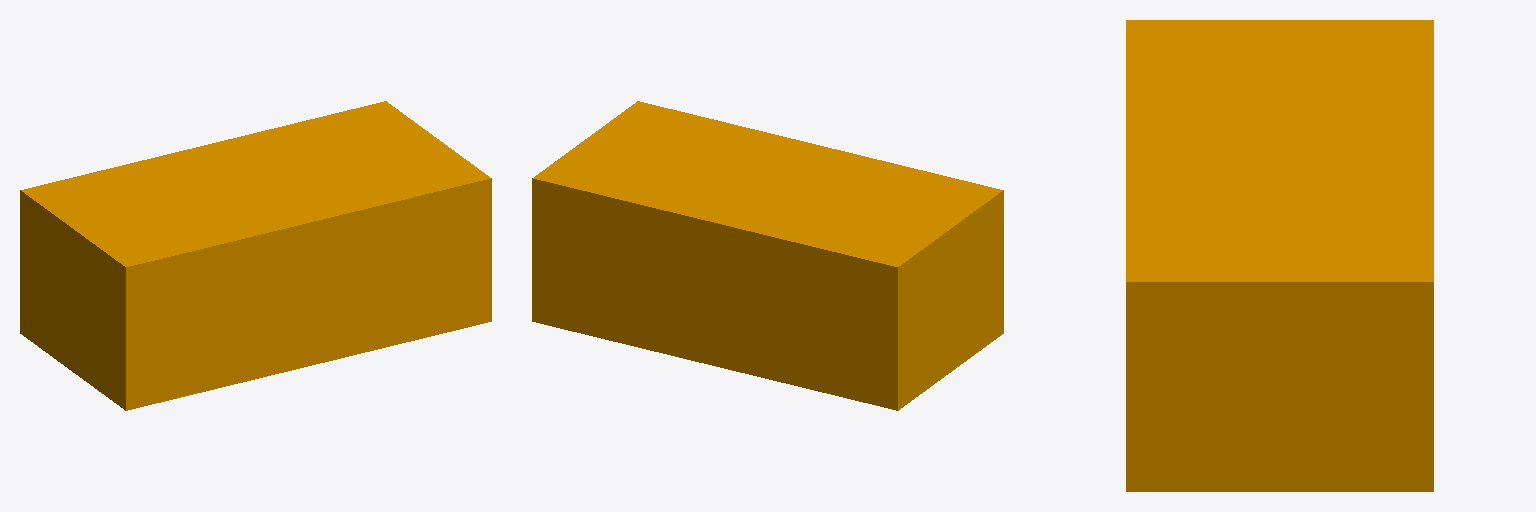
URDF robot description (2x2):
<?xml version='1.0' encoding='UTF-8'?>
<robot name="2x2">
  <link name="base_link">
    <inertial>
      <origin xyz="0.0 0.0 0.0" rpy="0.0 0.0 0.0"/>
      <mass value="0.01"/>
      <inertia ixx="0.1" ixy="0.0" ixz="0.0" iyy="0.1" iyz="0.0" izz="0.1"/>
    </inertial>
    <visual>
      <geometry>
        <box size="0.032 0.016 0.012"/>
      </geometry>
      <material name=""/>
      <origin xyz="0.0 0.0 0.0" rpy="0.0 0.0 0.0"/>
    </visual>
    <collision>
      <geometry>
        <box size="0.032 0.016 0.012"/>
      </geometry>
      <origin xyz="0.0 0.0 0.0" rpy="0.0 0.0 0.0"/>
    </collision>
  </link>
  <material name="">
    <color rgba="1. 1. 1. 1."/>
  </material>
  <contact>
    <lateral_friction value="1.0"/>
    <rolling_friction value="0.0"/>
    <contact_cfm value="0.0"/>
    <contact_erp value="1.0"/>
  </contact>
</robot>

--- What the picture shows (computed from the rendered views, not written in the file) ---
Views: 3 orthographic renders of the robot side by side, from view 1: azimuth 30°, elevation 25°; view 2: azimuth 150°, elevation 25°; view 3: azimuth 270°, elevation 25°.
Robot: 2x2 — 1 links, 0 joints (none); root link base_link; default pose: all joints at 0.
Links seen in each view (by area): view 1: base_link; view 2: base_link; view 3: base_link.
Link boxes in pixels (x1,y1,x2,y2): base_link: [20, 101, 491, 410]; base_link: [532, 101, 1003, 410]; base_link: [1126, 20, 1433, 491].
Bounding box of the posed robot: 0.032 × 0.016 × 0.012 m (x, y, z).
Geometry: primitives only (box / cylinder / sphere), no mesh files.